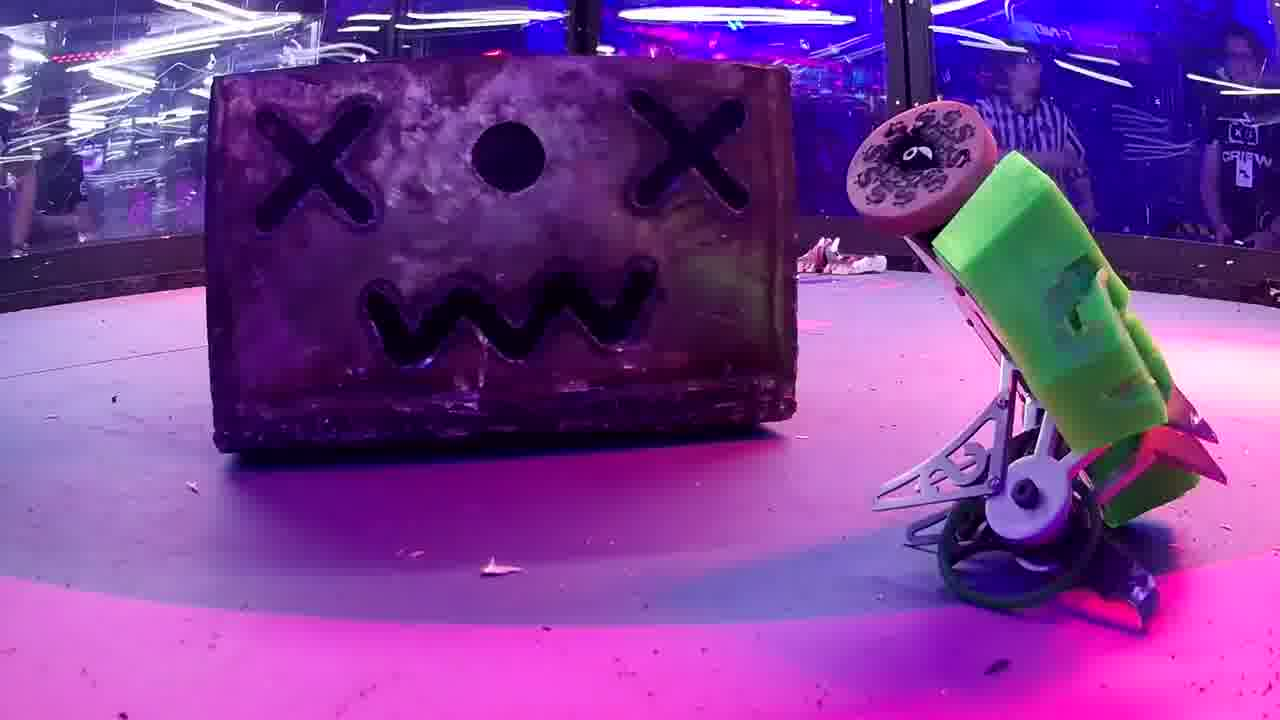combatbot: (846, 101, 1228, 543), (799, 236, 887, 274)
housebot: (207, 68, 799, 453)
